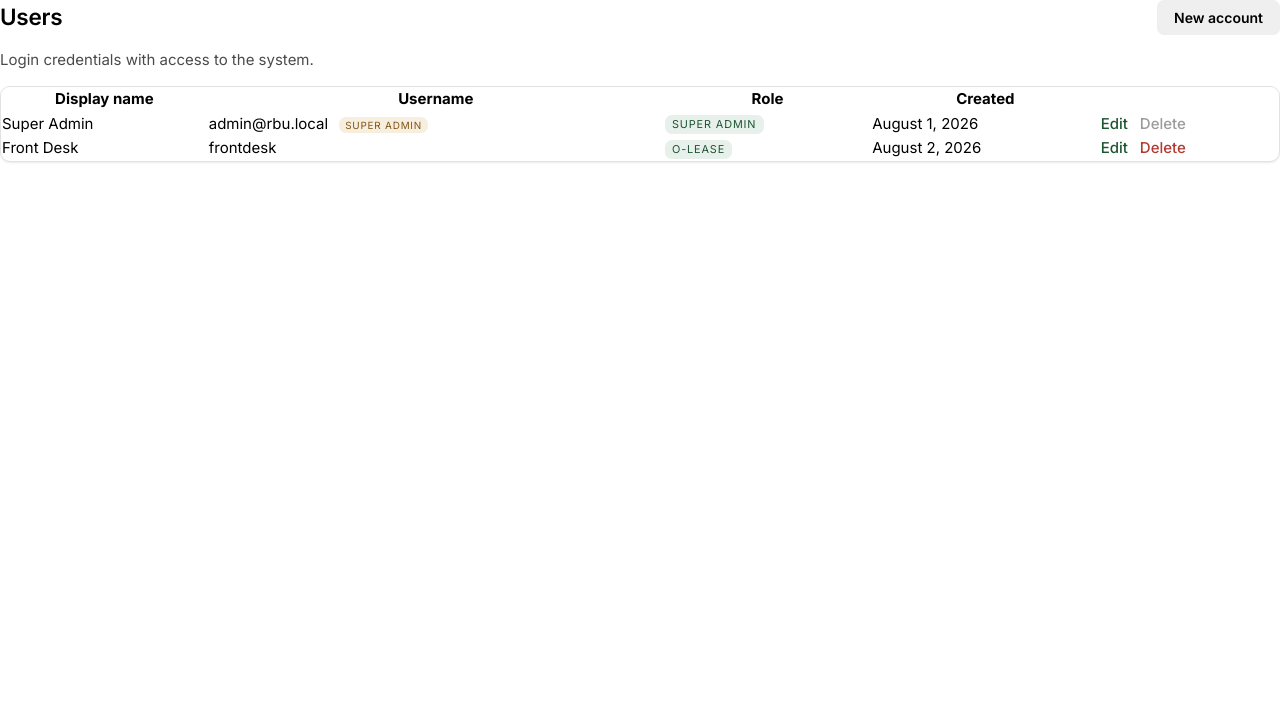
Scenario: UsersView › labels the password field as a reset when editing a login
What coordinates should you click on to do the following:
click the button "Edit" in the row of "Front Desk"
I would click on:
 (1114, 149)
Its box is x1=1101 y1=137 x2=1128 y2=160.
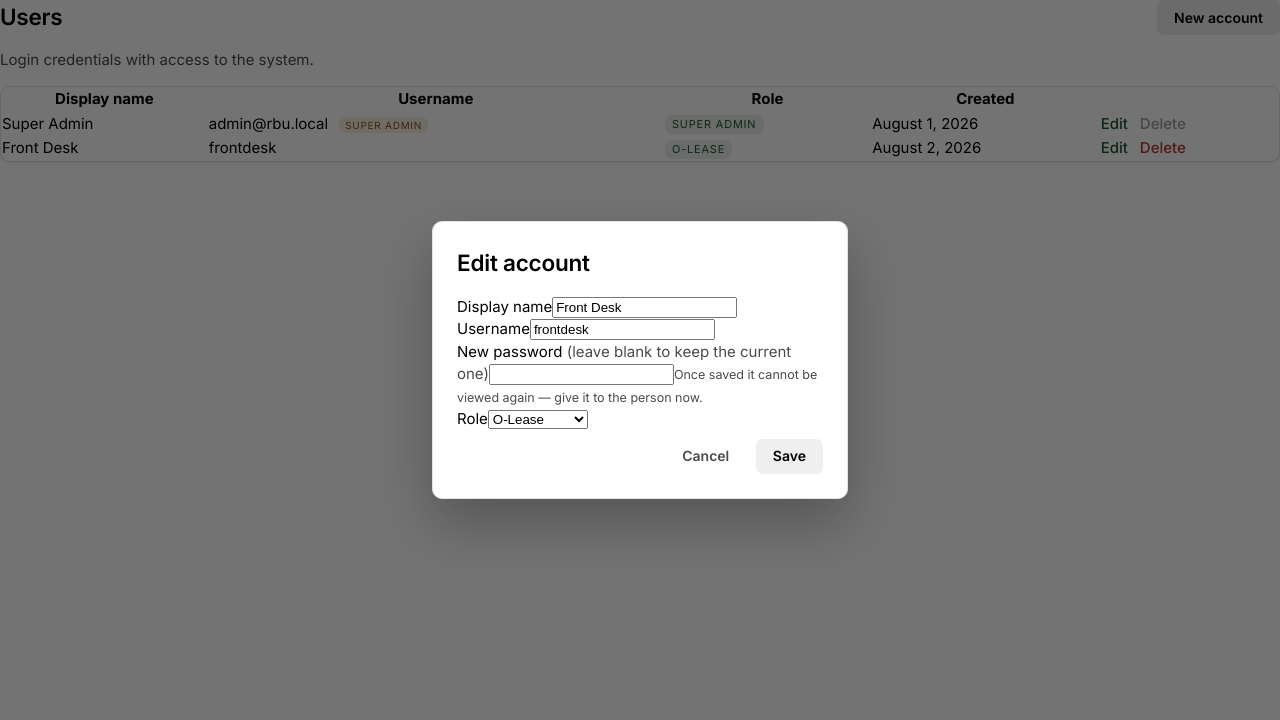
Expected: the label "New password (leave blank to keep the current one)" is shown, x1=457 y1=342 x2=791 y2=383
